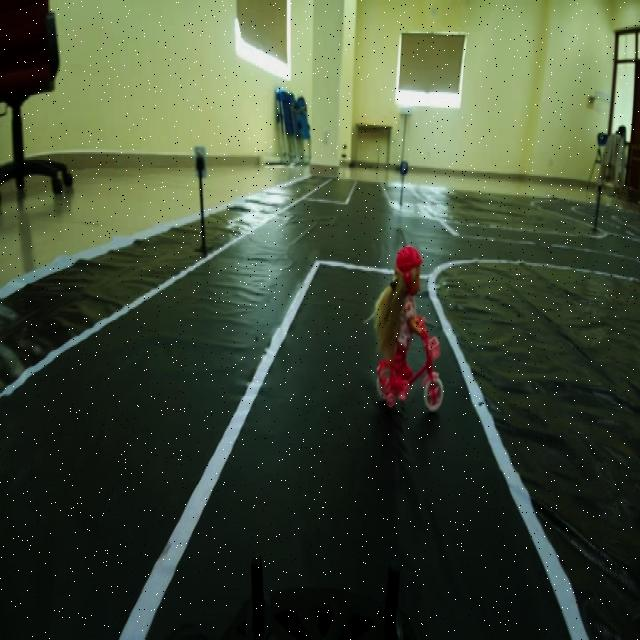pedestrian: (360, 228, 456, 422)
